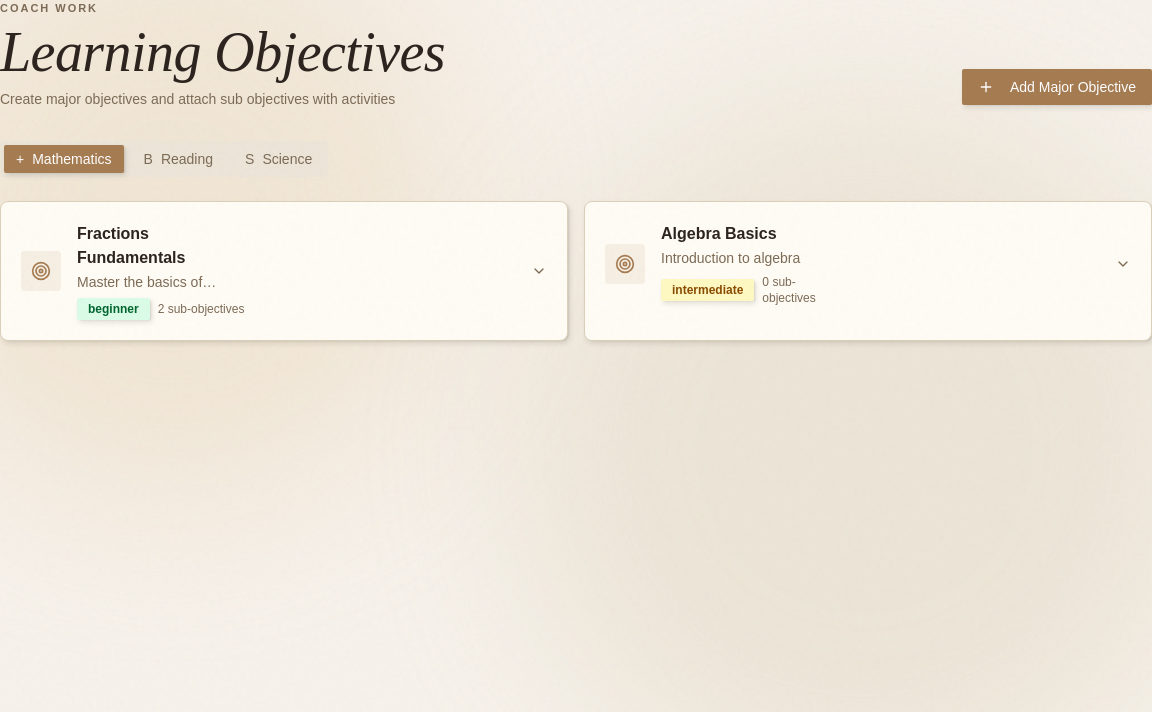
ObjectivesPage › Activity CRUD for sub-objectives › expands sub-objective to show activities when clicked
Click the text "Fractions Fundamentals": point(113, 234) [77,225,186,266]
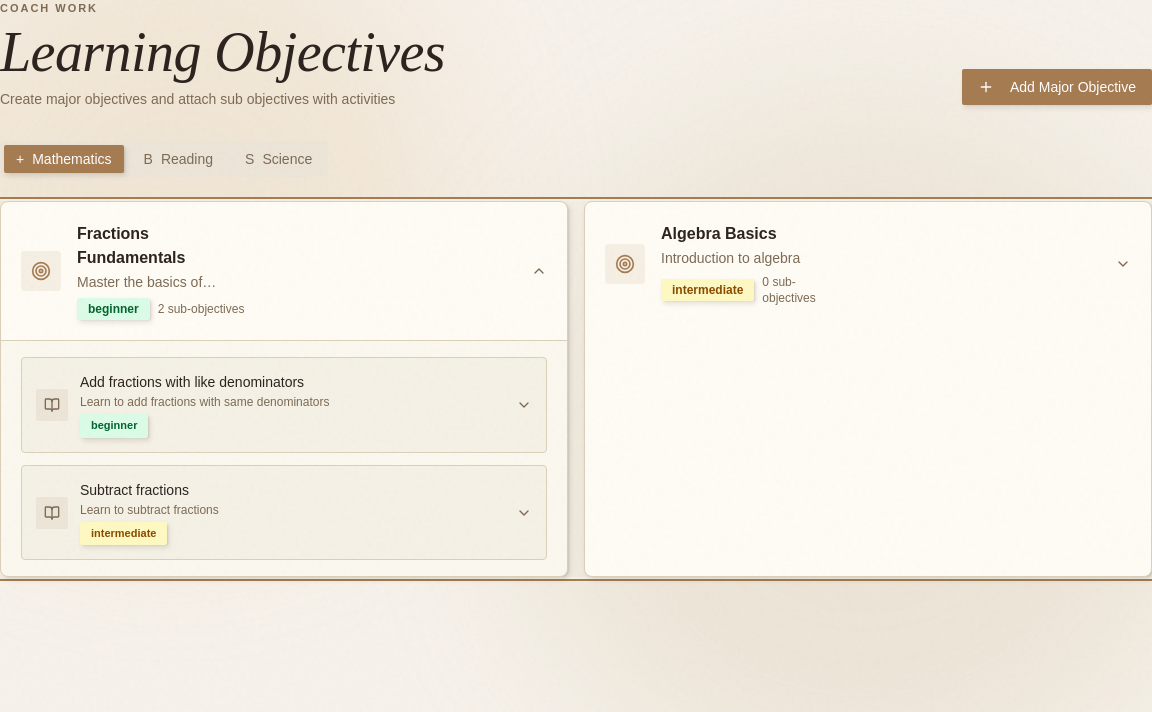
Click the text "Add fractions with like denominators": point(209, 382) [80,372,338,392]
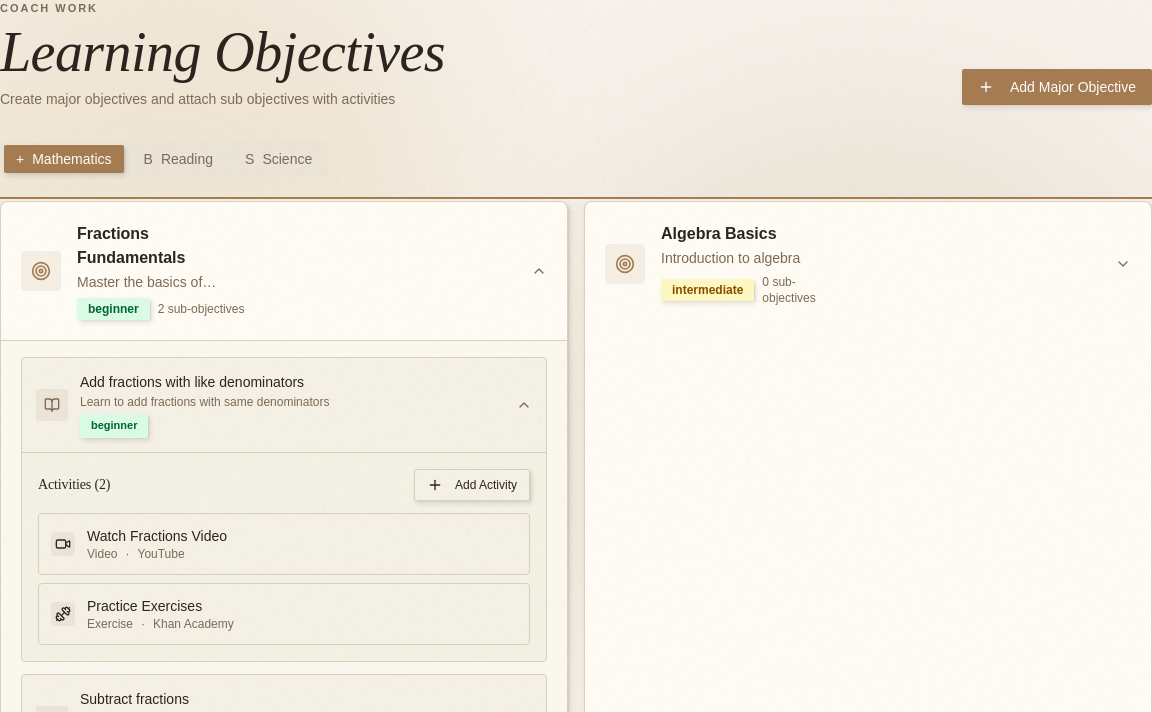
Check: the heading "Activities (2)" is shown, box [38,475,110,495]
Check: the text "Watch Fractions Video" is shown, box [87,528,227,544]
Check: the text "Practice Exercises" is shown, box [87,598,202,614]
